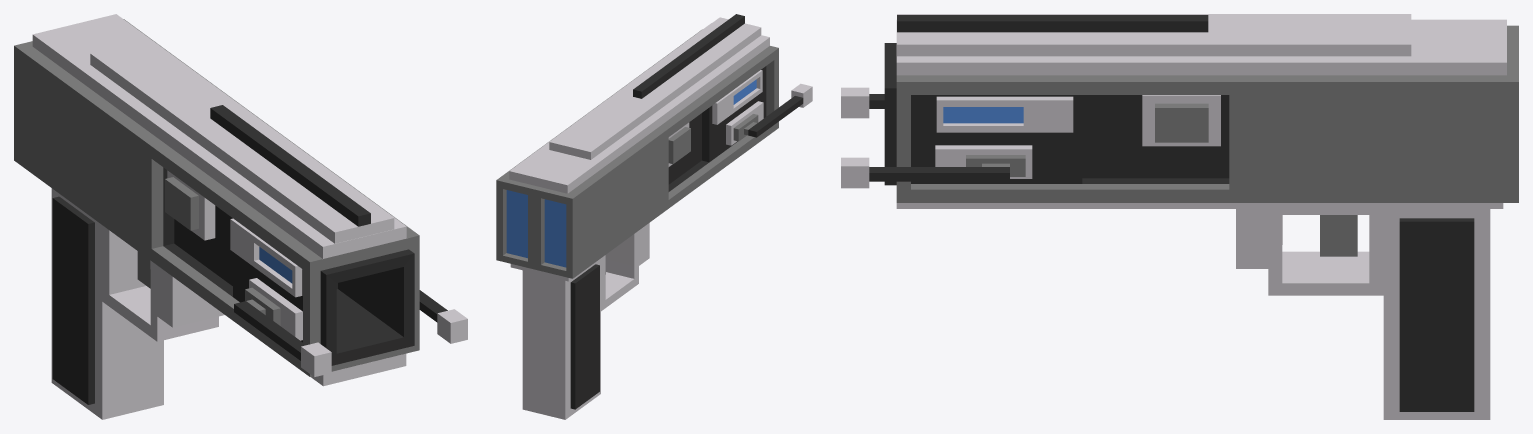
File: gravity_gun_test1.fbx
The picture shows the model from 3 angles, left to right: view 1: azimuth 30°, elevation 25°; view 2: azimuth 150°, elevation 25°; view 3: azimuth 270°, elevation 25°; orthographic projection. The views are drawn at different scales.
Parts seen in each view (by area): view 1: Cube; view 2: Cube; view 3: Cube.
Part boxes in pixels (x1,y1,x2,y2): Cube: (14, 14, 467, 419); Cube: (496, 14, 812, 419); Cube: (841, 14, 1518, 419).
Bounding box in the file's own units: 95.72 × 218 × 347.
